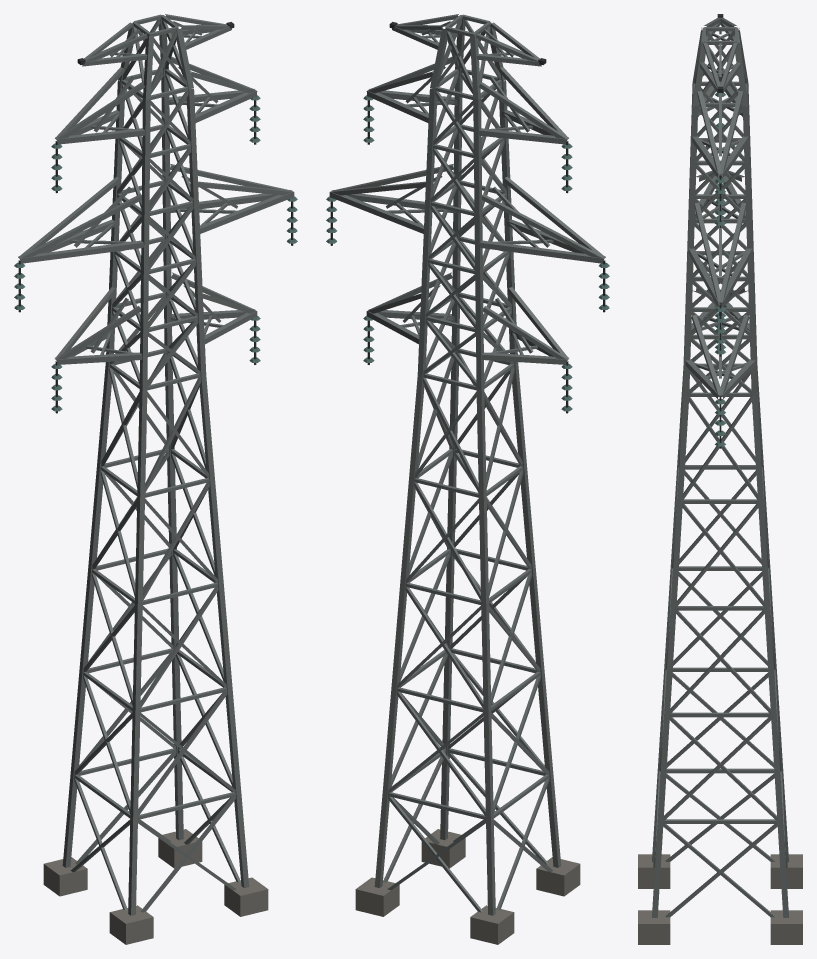
3 views of the same model, side by side, from view 1: azimuth 30°, elevation 25°; view 2: azimuth 150°, elevation 25°; view 3: azimuth 270°, elevation 25° (orthographic).
Visible parts, largest first — view 1: hv110-dt; view 2: hv110-dt; view 3: hv110-dt.
Part boxes in pixels (x1,y1,x2,y2): hv110-dt: (14,14,297,944); hv110-dt: (326,14,609,944); hv110-dt: (638,14,802,944).
Size of the model in its own units: 9.08 by 26.95 by 4.6.
